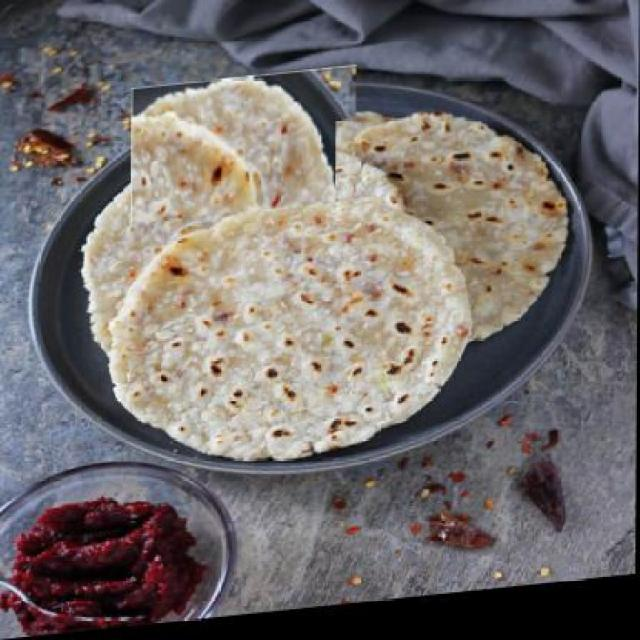chapati: (109, 198, 474, 480), (106, 95, 382, 390), (335, 109, 570, 362)
